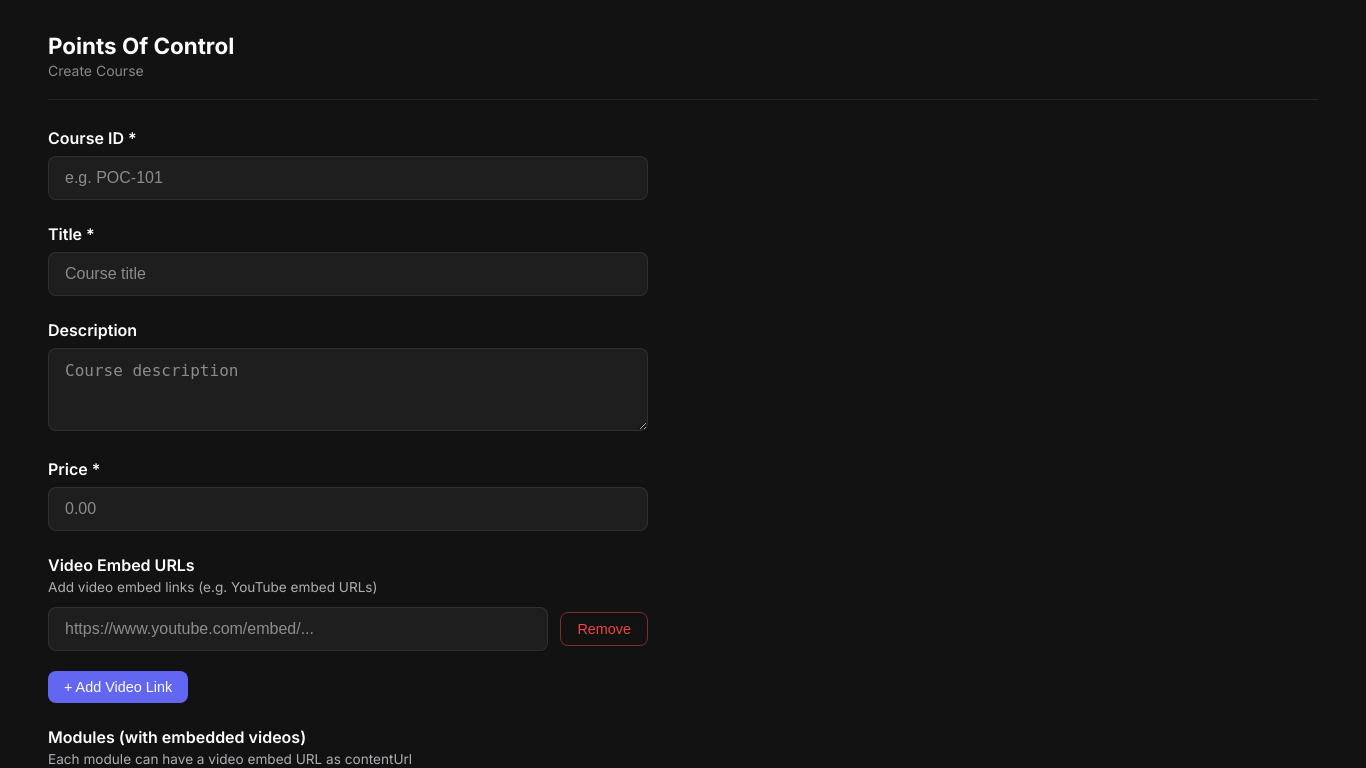
Scenario: CreateCourse component › removes a video link when Remove is clicked
Click the button "+ Add Video Link" at (118, 687), box [48,671,188,703]
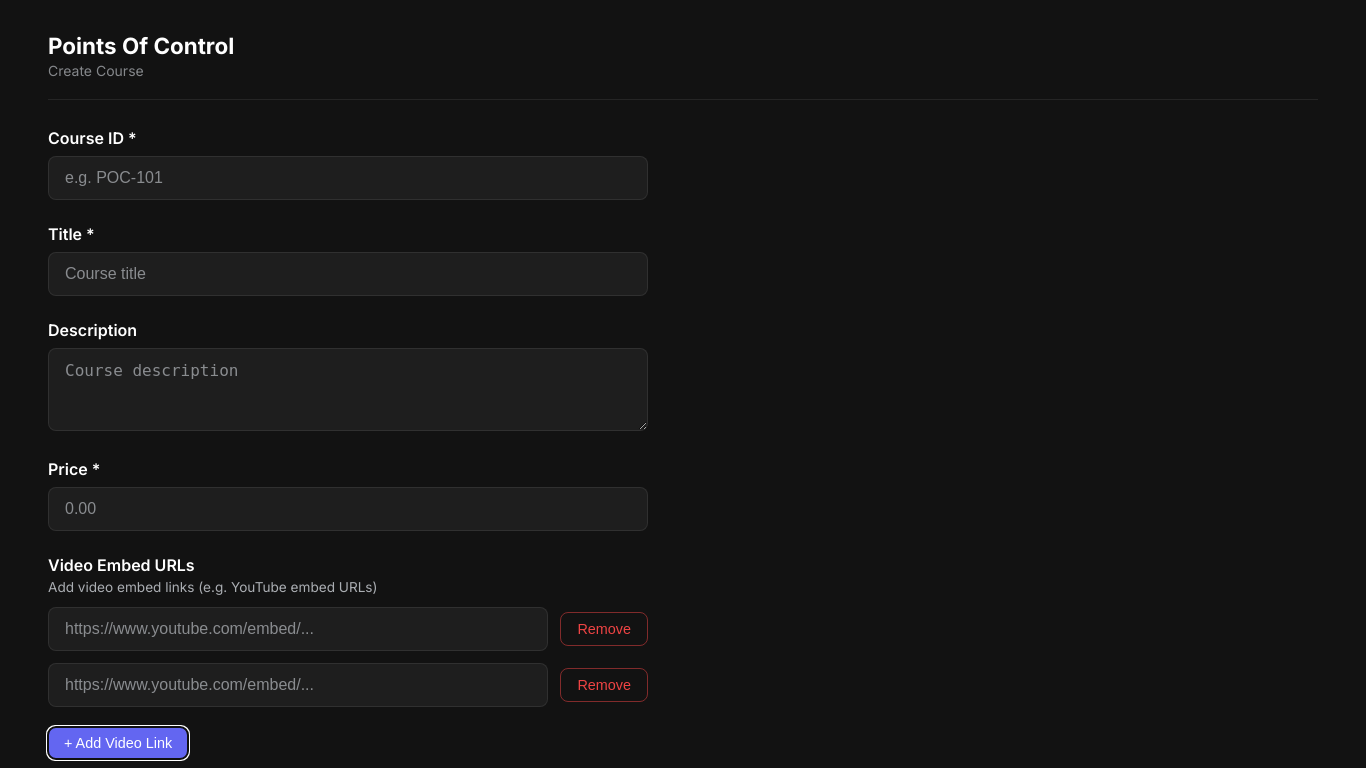
Click the 1st button "Remove" at (604, 629), box [560,612,648,646]
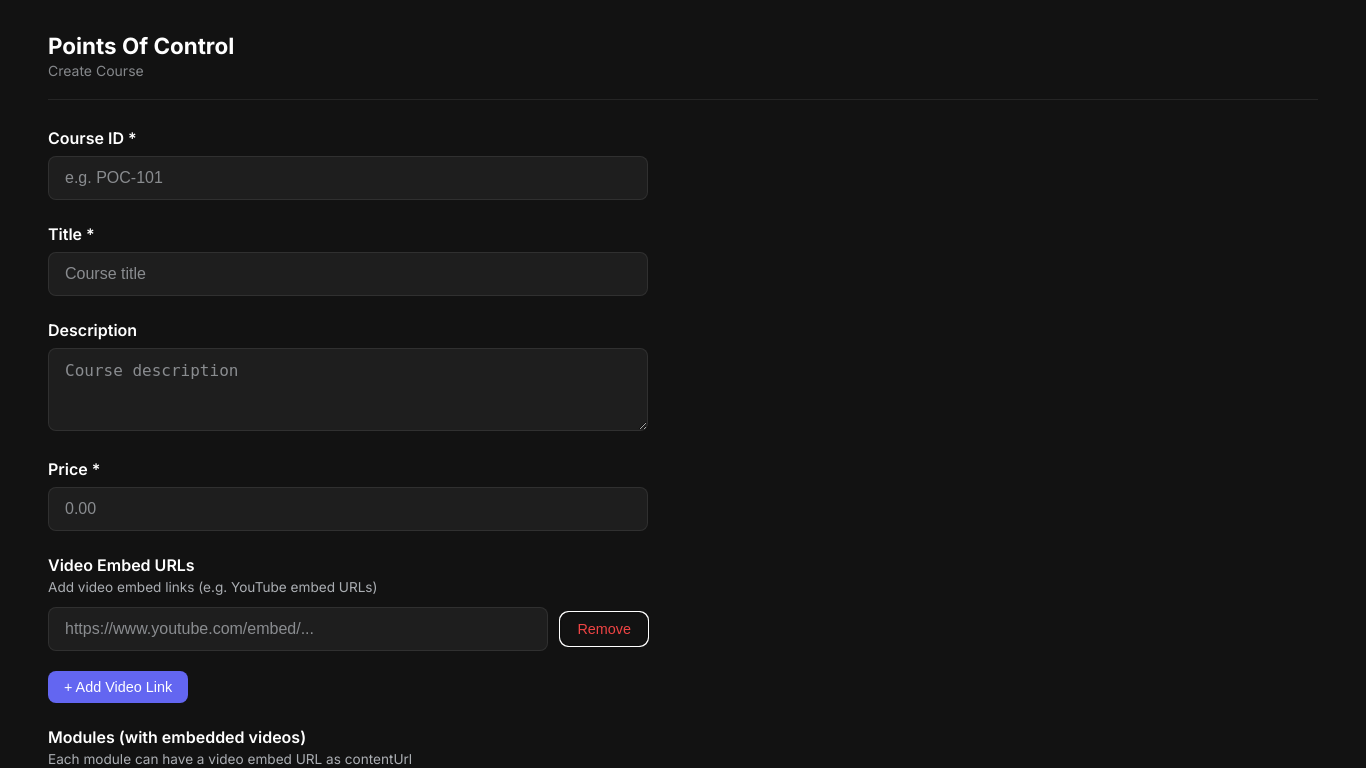
Check: the number of fields with placeholder "https://www.youtube.com/embed/..." is 1, box [48,607,548,651]
